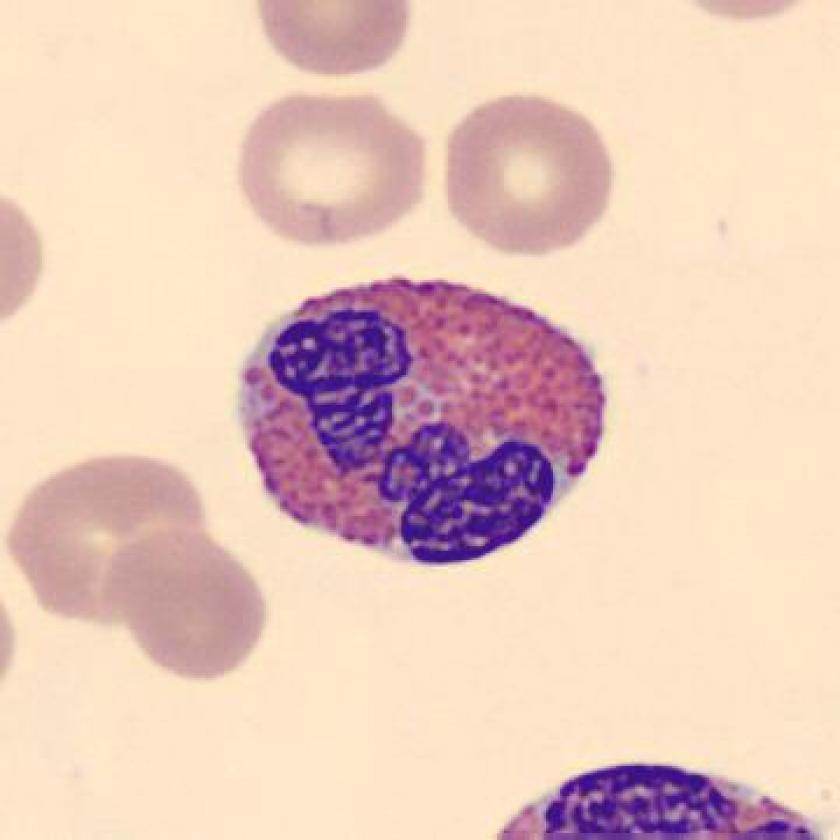eosinophil: (225, 267, 622, 573)
